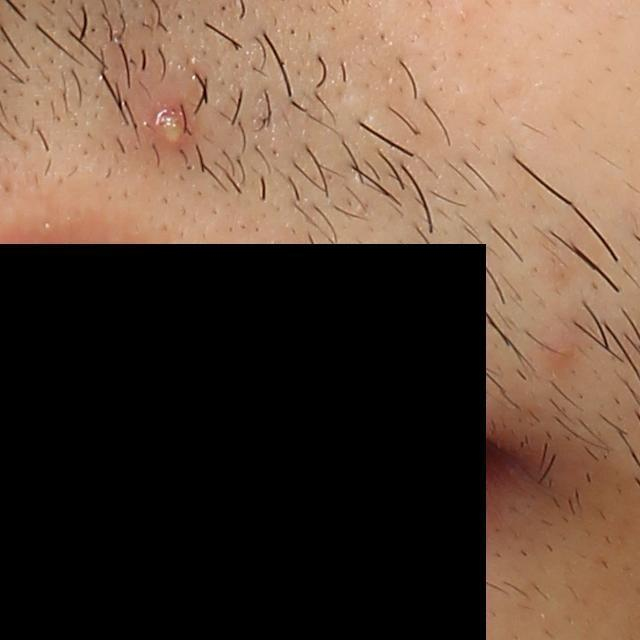papule: (550, 330, 582, 370)
pustule: (138, 94, 200, 154)
